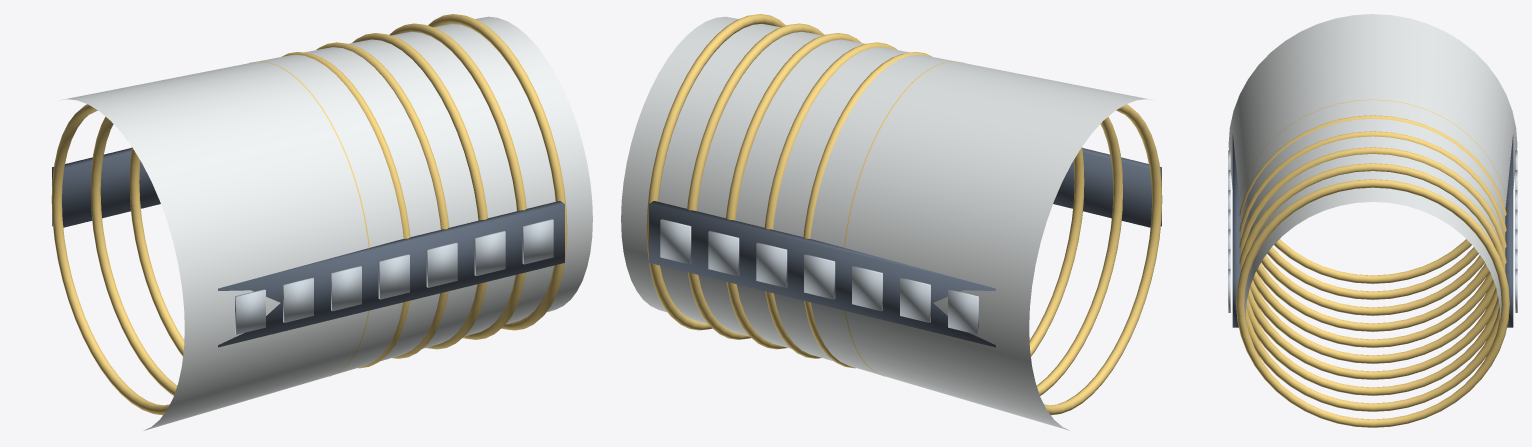
Rendered from 04_L86_DockedCargoSpacecraft.glb.
The picture shows the model from 3 angles, left to right: view 1: azimuth 30°, elevation 25°; view 2: azimuth 150°, elevation 25°; view 3: azimuth 270°, elevation 25°; orthographic projection. The views are drawn at different scales.
Parts seen in each view (by area): view 1: L86_DockedCargoSpacecraft; view 2: L86_DockedCargoSpacecraft; view 3: L86_DockedCargoSpacecraft.
Part boxes in pixels (<box>): L86_DockedCargoSpacecraft: <box>51,14,592,430</box>; L86_DockedCargoSpacecraft: <box>621,14,1162,430</box>; L86_DockedCargoSpacecraft: <box>1228,14,1517,427</box>.
Bounding box in the file's own units: 4.1 × 2.9 × 2.9.
